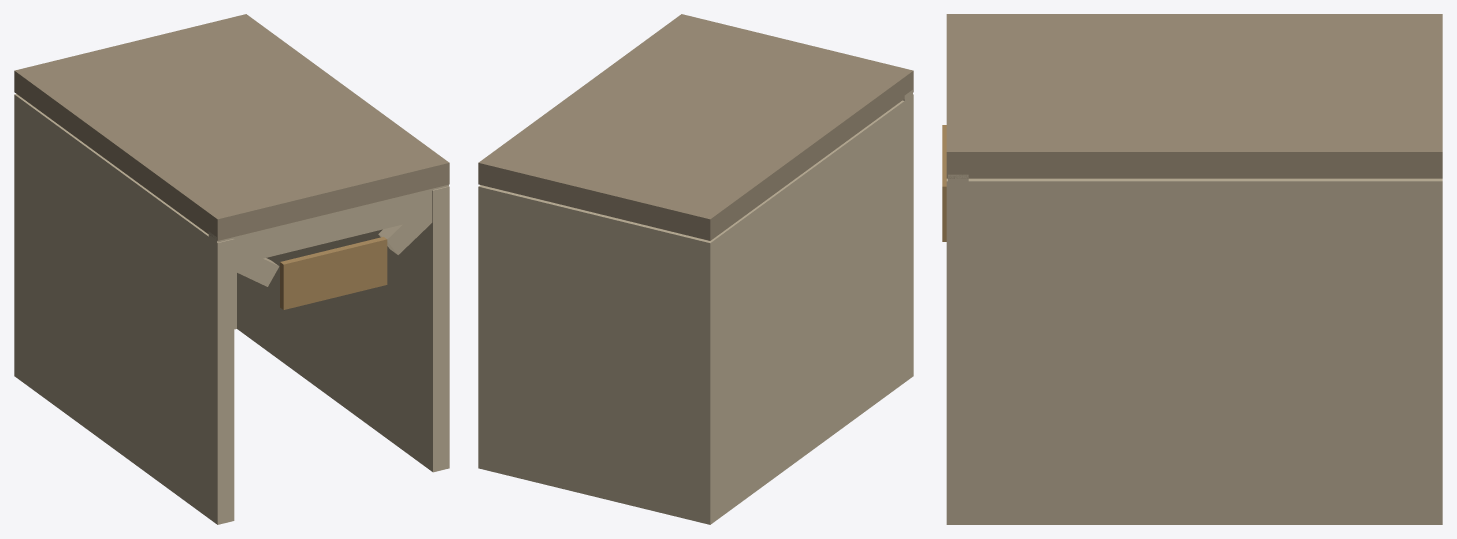
Rendered from carceres_gate.glb.
3 renders of one model, left to right at view 1: azimuth 30°, elevation 25°; view 2: azimuth 150°, elevation 25°; view 3: azimuth 270°, elevation 25°, orthographic. The views are drawn at different scales.
Parts seen in each view (by area): view 1: CarceresPillarL, CarceresRoof, CarceresPillarR, CarceresLintel, BronzePlaque, CarceresBack, CarceresHaunchR, CarceresHaunchL; view 2: CarceresBack, CarceresPillarL, CarceresRoof, CarceresPillarR; view 3: CarceresPillarR, CarceresRoof, CarceresBack, CarceresLintel, BronzePlaque.
Part boxes in pixels (x1,y1,x2,y2): CarceresPillarL: [14, 94, 234, 524]; CarceresRoof: [14, 14, 449, 240]; CarceresPillarR: [237, 186, 449, 472]; CarceresLintel: [208, 184, 448, 269]; BronzePlaque: [280, 237, 387, 309]; CarceresBack: [14, 94, 236, 381]; CarceresHaunchR: [378, 200, 432, 254]; CarceresHaunchL: [234, 247, 279, 286]; CarceresBack: [478, 185, 717, 524]; CarceresPillarL: [693, 94, 913, 524]; CarceresRoof: [478, 14, 913, 240]; CarceresPillarR: [478, 186, 494, 471]; CarceresPillarR: [946, 178, 1442, 524]; CarceresRoof: [946, 14, 1442, 178]; CarceresBack: [1425, 178, 1442, 524]; CarceresLintel: [948, 174, 968, 214]; BronzePlaque: [942, 125, 946, 241].
Bounding box in the file's own units: 2.24 × 2.82 × 3.43.
